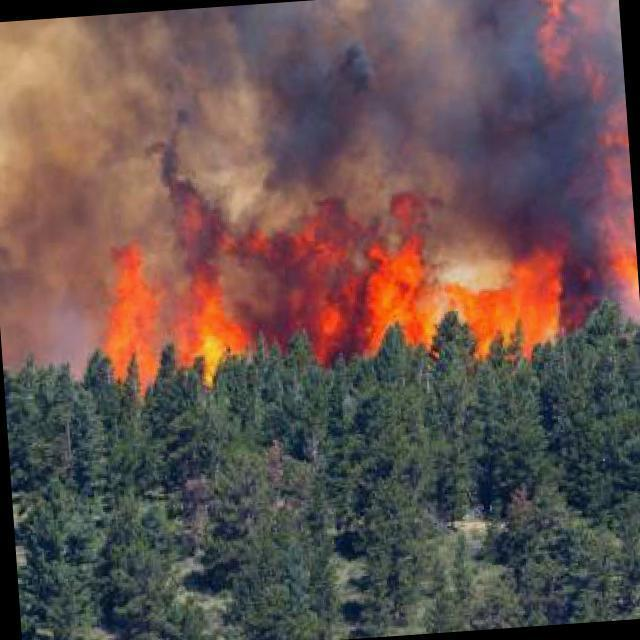Fire: (450, 220, 568, 348), (352, 199, 428, 357), (93, 248, 163, 372), (180, 252, 242, 376), (310, 236, 366, 368), (614, 236, 638, 304)
Smoke: (216, 221, 336, 347), (562, 216, 618, 316)
